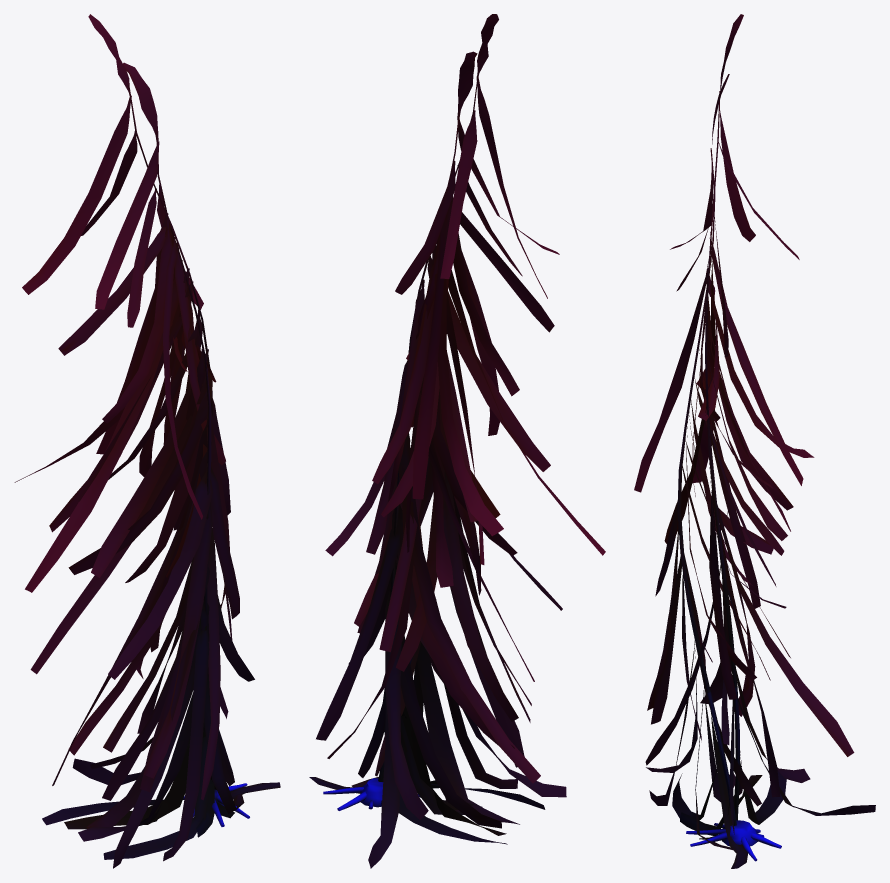
Rendered from MESH_Flora_Kelp_s4022_q100.fbx.
3 views of the same model, side by side, from view 1: azimuth 30°, elevation 25°; view 2: azimuth 150°, elevation 25°; view 3: azimuth 270°, elevation 25° (orthographic). The views are drawn at different scales.
Visible parts, largest first — view 1: MESH_Flora_Kelp_s4022_q100_LOD0; view 2: MESH_Flora_Kelp_s4022_q100_LOD0; view 3: MESH_Flora_Kelp_s4022_q100_LOD0.
Boxes of the visible parts, x1=… form: MESH_Flora_Kelp_s4022_q100_LOD0: x1=14, y1=14, x2=280, y2=868; MESH_Flora_Kelp_s4022_q100_LOD0: x1=309, y1=14, x2=605, y2=868; MESH_Flora_Kelp_s4022_q100_LOD0: x1=634, y1=14, x2=875, y2=868.
Size of what is drawn, in the model's own units: 306 by 874 by 247.
